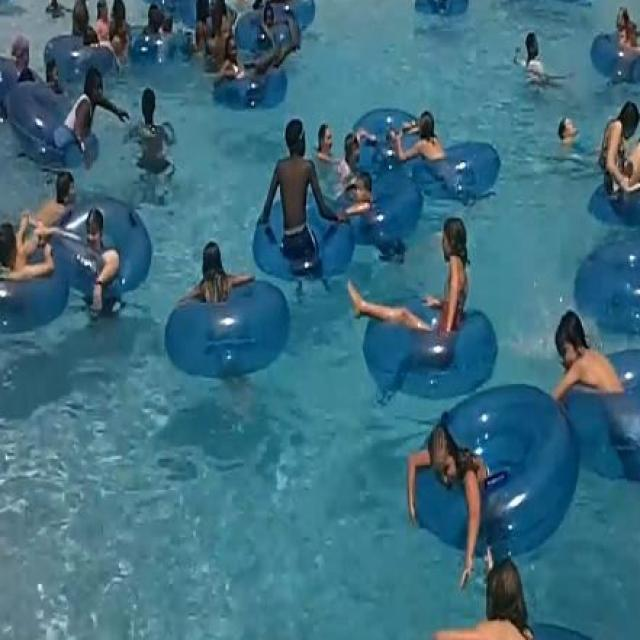Drowning: (551, 111, 586, 154)
Swimming: (382, 422, 492, 559), (396, 214, 476, 336), (181, 225, 257, 348), (549, 306, 631, 412), (119, 86, 182, 185), (388, 109, 462, 181), (505, 18, 573, 92)
